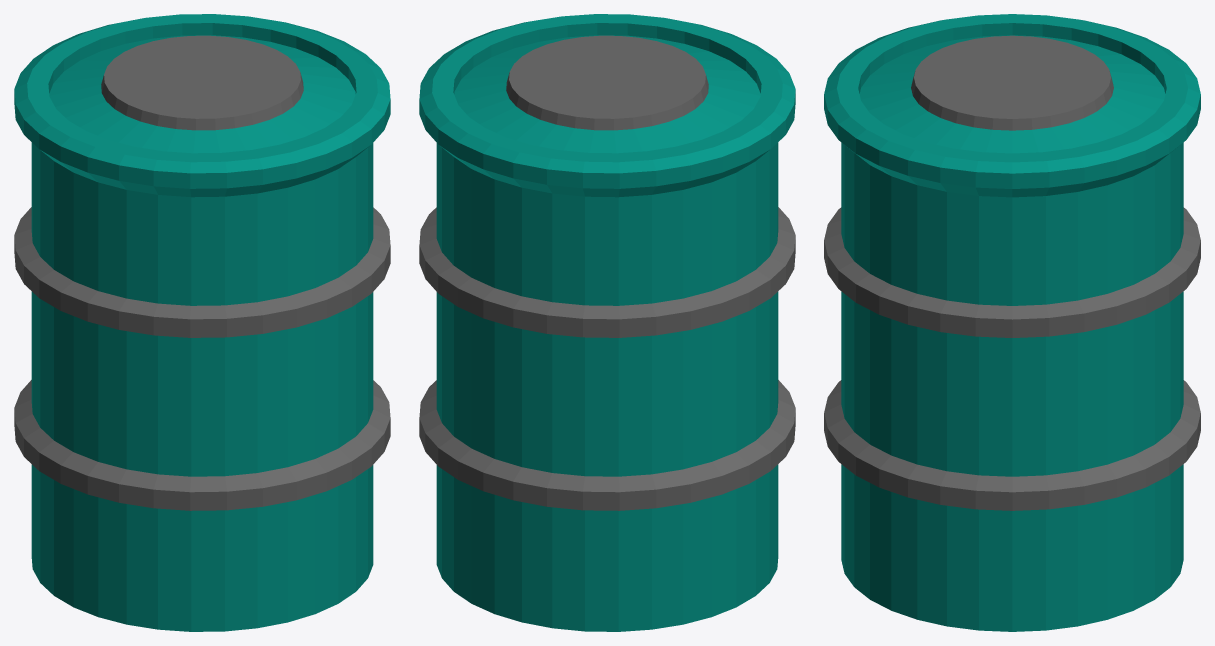
File: Barrel3.fbx
3 views of the same model, side by side, from view 1: azimuth 30°, elevation 25°; view 2: azimuth 150°, elevation 25°; view 3: azimuth 270°, elevation 25° (orthographic).
Parts seen in each view (by area): view 1: Cylinder; view 2: Cylinder; view 3: Cylinder.
Boxes of the visible parts, x1=… form: Cylinder: x1=14, y1=14, x2=390, y2=631; Cylinder: x1=419, y1=14, x2=795, y2=631; Cylinder: x1=824, y1=14, x2=1200, y2=631.
Bounding box in the file's own units: 110 × 155 × 110.
